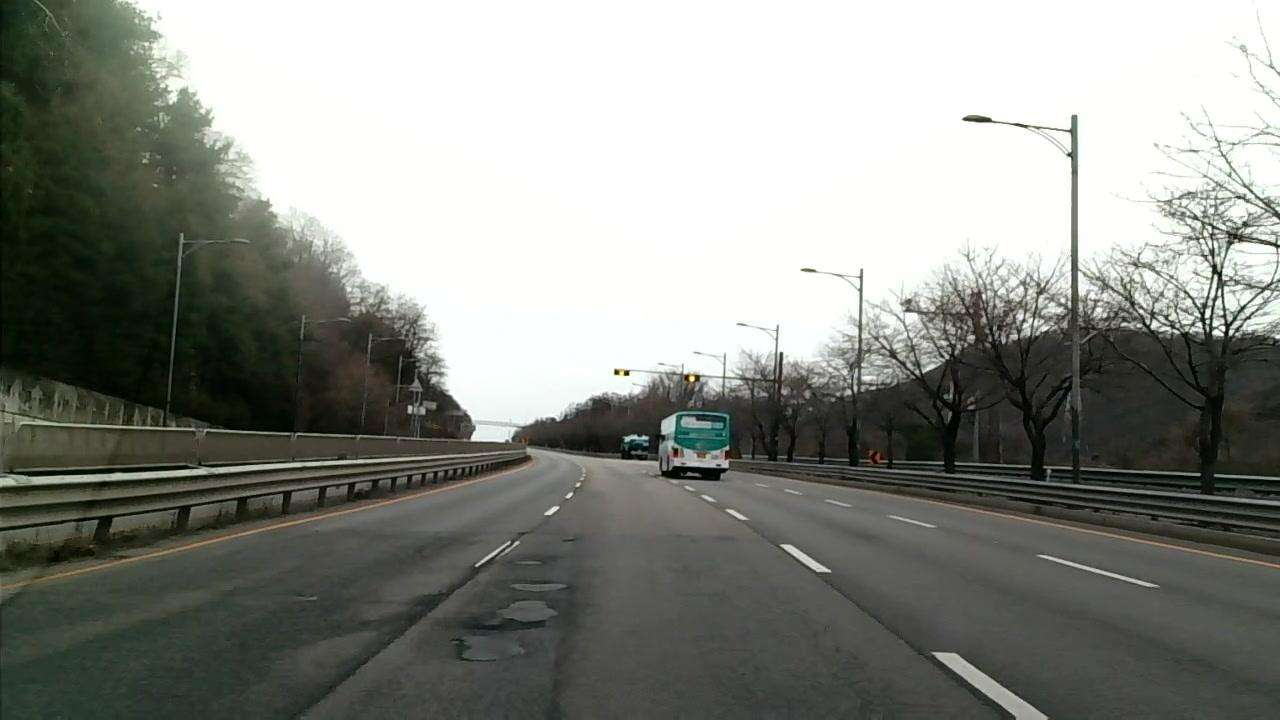pothole: (470, 613, 551, 638)
vcrack: (241, 534, 516, 720)
